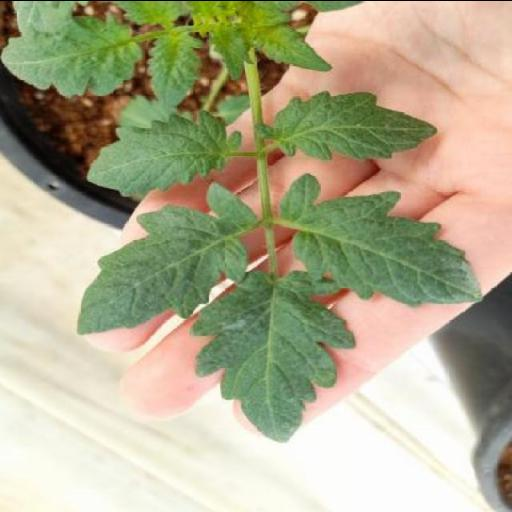Healthy: (189, 270, 355, 442), (280, 172, 484, 306), (78, 182, 254, 334), (87, 110, 241, 196), (254, 90, 436, 158)
